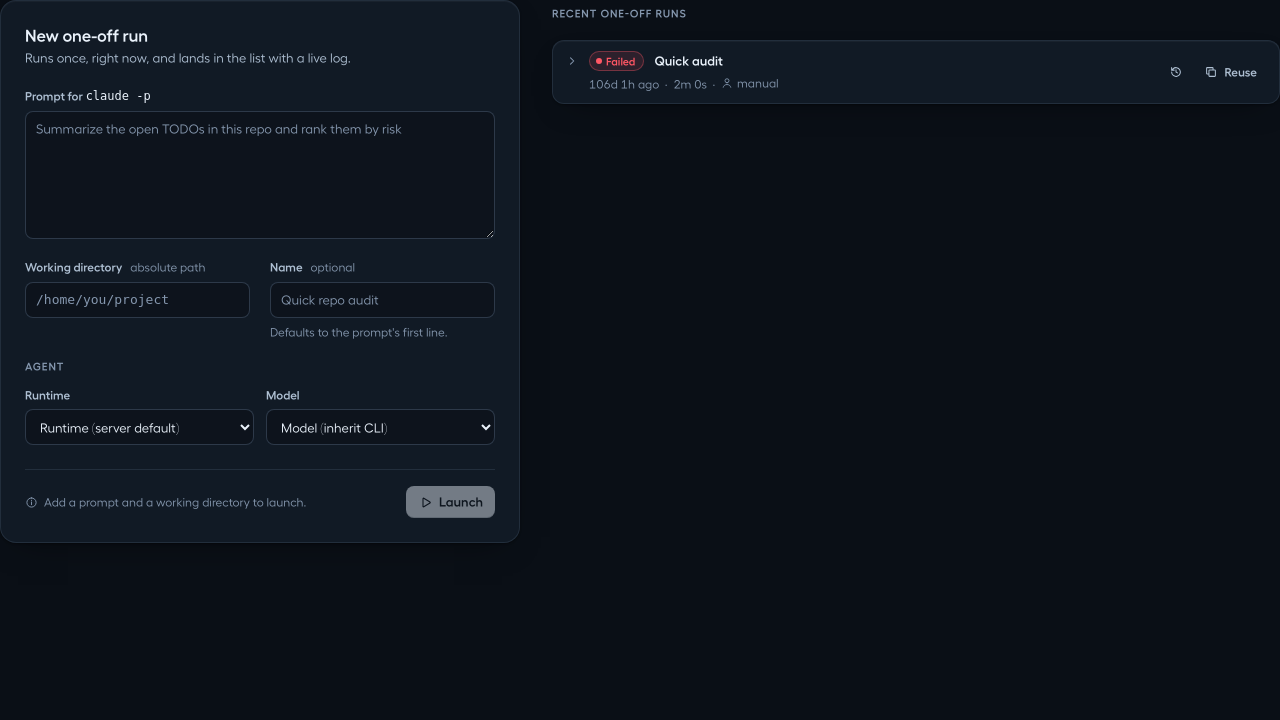
Scenario: Launch › tells a failed run's reason as a sentence in the reading face, in the failure style
The image size is (1280, 720).
Click the button "Failed Quick audit 106d 1h ago · 2m 0s · manual" at x=617, y=61, box x1=561 y1=47 x2=1154 y2=97
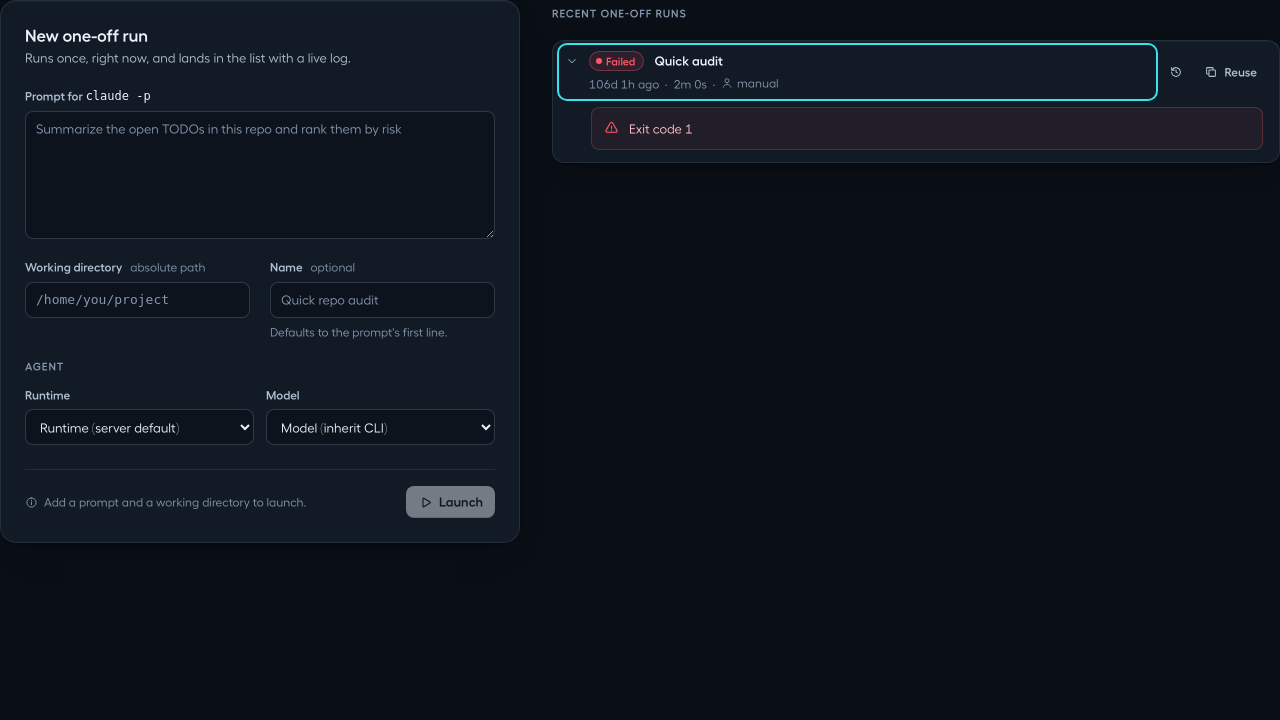
Expected: the text "Exit code 1" is shown, x1=591 y1=107 x2=1263 y2=150
